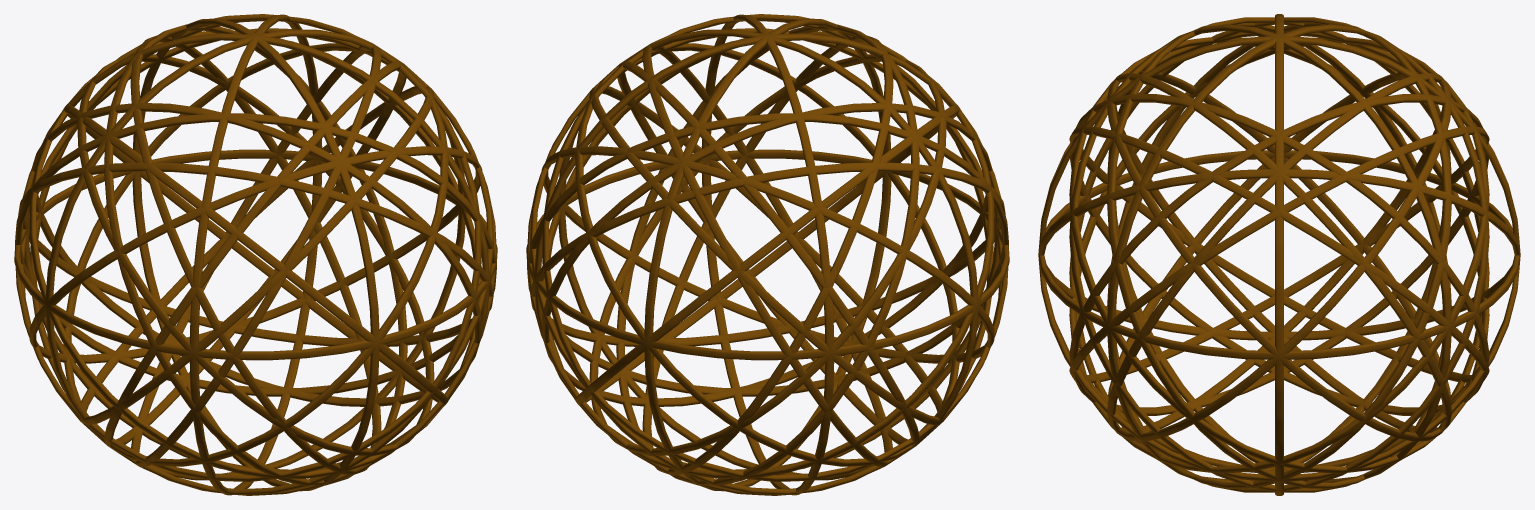
File: schild.glb
3 views of the same model, side by side, from view 1: azimuth 30°, elevation 25°; view 2: azimuth 150°, elevation 25°; view 3: azimuth 270°, elevation 25° (orthographic).
Parts seen in each view (by area): view 1: pCylinder21_blinn1_0; view 2: pCylinder21_blinn1_0; view 3: pCylinder21_blinn1_0.
Boxes of the visible parts, x1,y1,x2,y2 form: pCylinder21_blinn1_0: (14, 14, 497, 495); pCylinder21_blinn1_0: (526, 14, 1009, 495); pCylinder21_blinn1_0: (1038, 14, 1520, 495).
Bounding box in the file's own units: 144 × 144 × 144.
